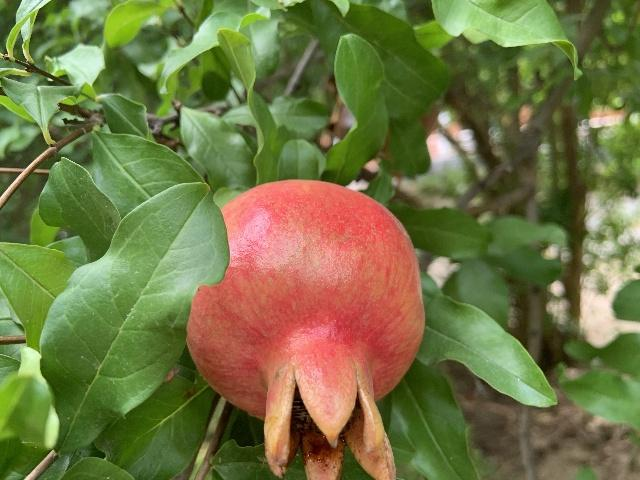ripe: (181, 179, 424, 479)
